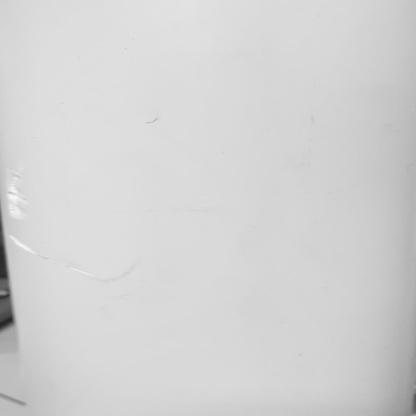sunshang: (3, 166, 51, 264)
